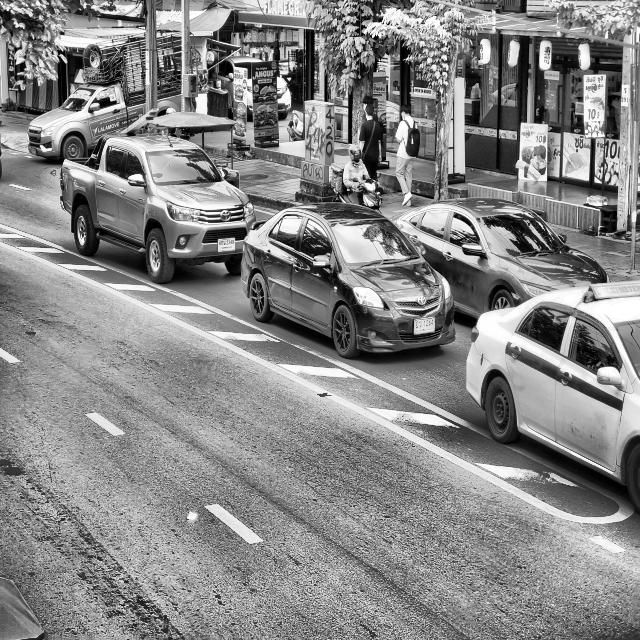license-plate: (412, 317, 436, 336), (216, 237, 237, 256), (31, 148, 37, 156)
